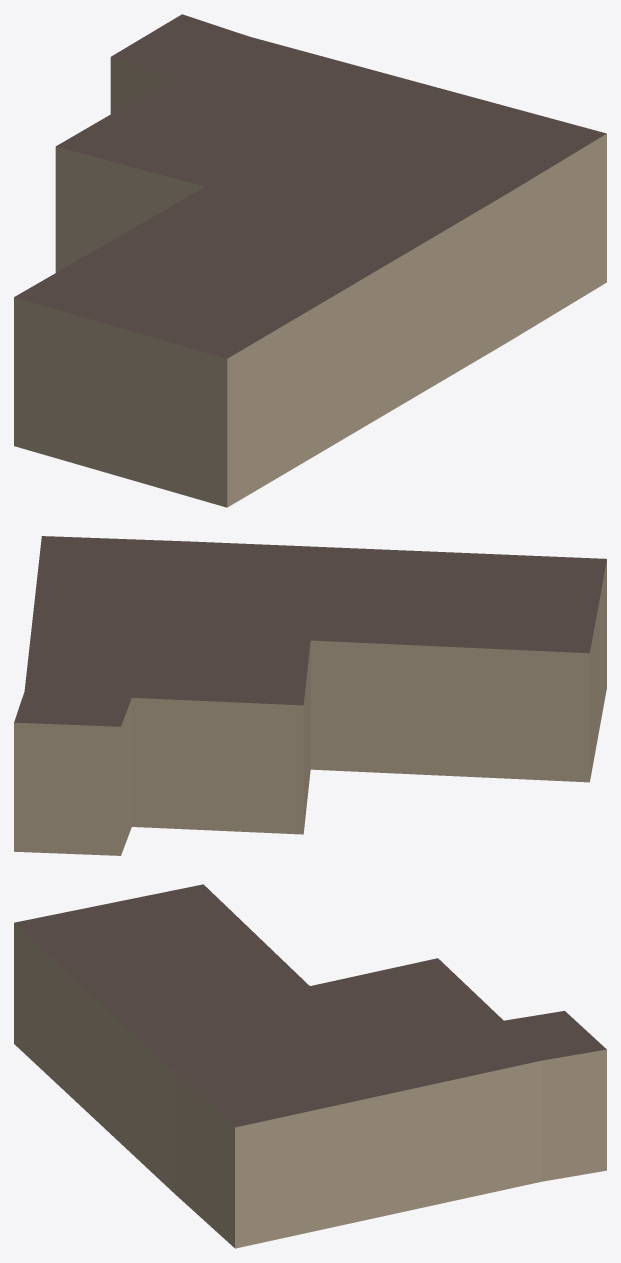
3 renders of one model, top to bottom at view 1: azimuth 30°, elevation 25°; view 2: azimuth 150°, elevation 25°; view 3: azimuth 270°, elevation 25°, orthographic. The views are drawn at different scales.
Parts seen in each view (by area): view 1: HP-w1196726537; view 2: HP-w1196726537; view 3: HP-w1196726537.
Part boxes in pixels (x1=…): HP-w1196726537: x1=14, y1=14, x2=606, y2=507; HP-w1196726537: x1=14, y1=536, x2=606, y2=855; HP-w1196726537: x1=14, y1=884, x2=606, y2=1248.
Size of the model in its own units: 38.74 by 9 by 39.93.
